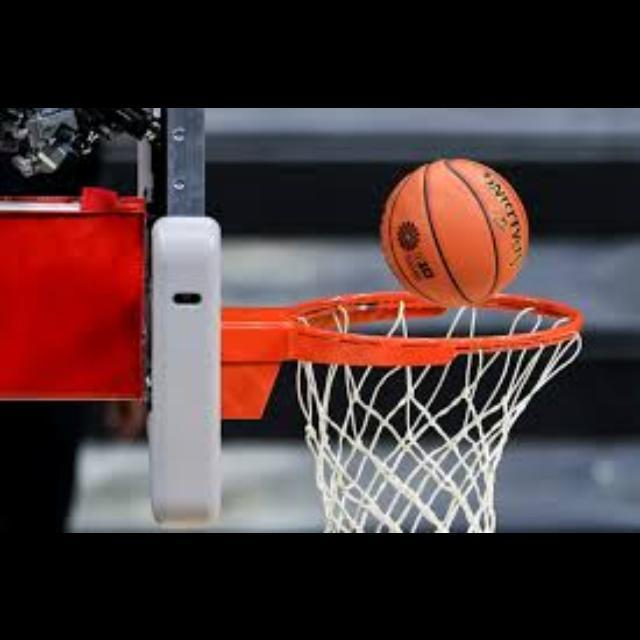basketball: (382, 158, 528, 302)
rim: (290, 292, 580, 532)
